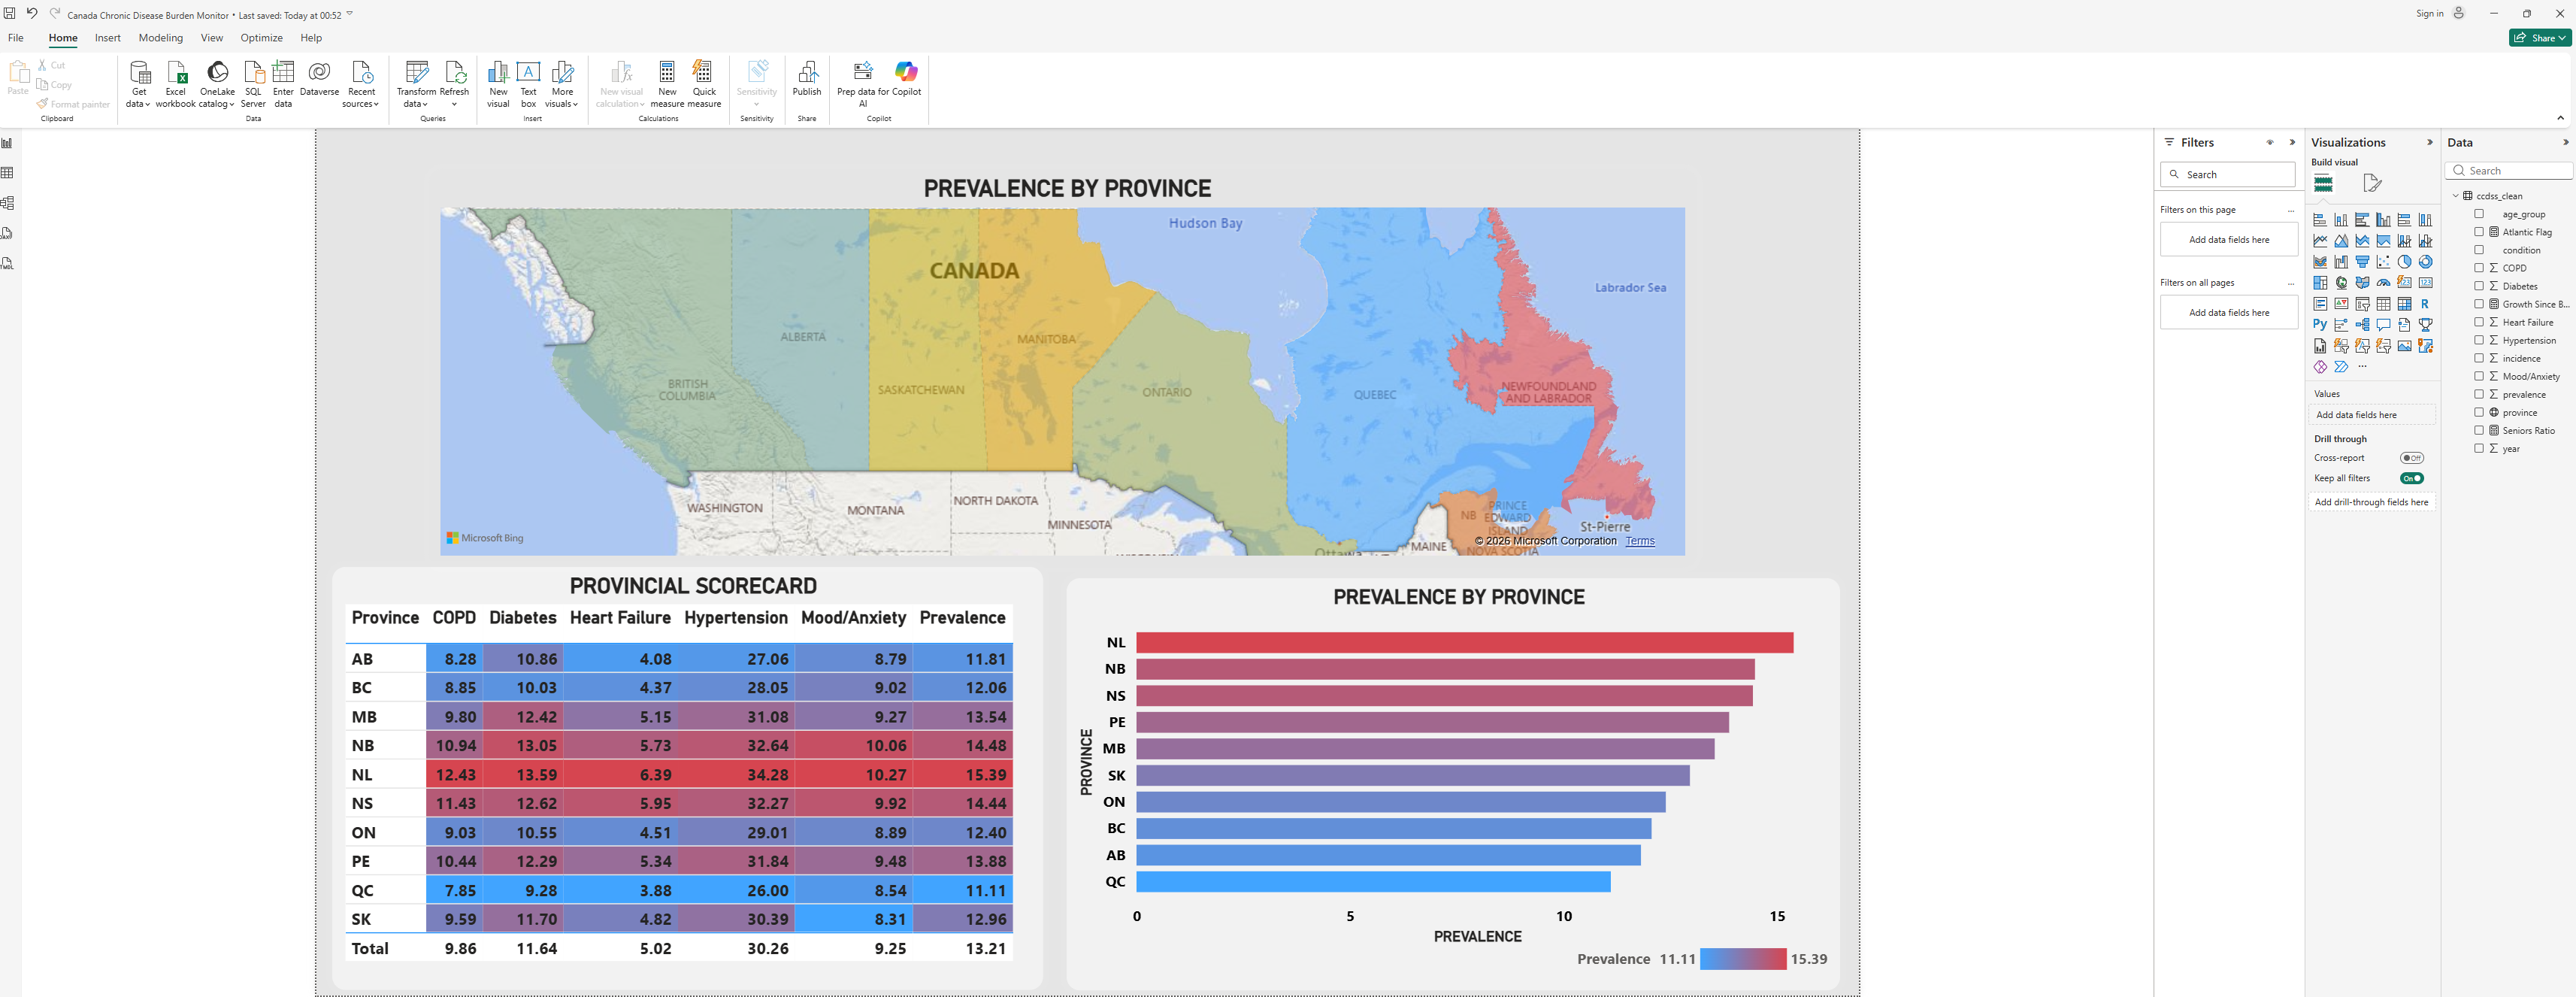

Layout of this report page (visuals, bound fields, positions):
{"tool":"powerbi","page":{"name":"PROVINCIAL ANALYSIS","canvas":[1280,720],"ordinal":1},"visuals":[{"type":"filledMap","title":"PREVALENCE BY PROVINCE","fields":{"Category":["ccdss_clean.province"]},"box":[89.4,30.1,1061,338.6],"z":0},{"type":"tableEx","title":"PROVINCIAL SCORECARD","fields":{"Values":["ccdss_clean.province","Avg(ccdss_clean.COPD)","Avg(ccdss_clean.Diabetes)","Avg(ccdss_clean.Heart Failure)","Avg(ccdss_clean.Hypertension)","Avg(ccdss_clean.Mood/Anxiety)","Avg(ccdss_clean.prevalence)"]},"box":[8,359.7,599.8,360.7],"z":1000},{"type":"clusteredBarChart","title":"PREVALENCE BY PROVINCE","fields":{"Category":["ccdss_clean.province"],"Y":["Avg(ccdss_clean.prevalence)"]},"box":[617.9,368.7,652.1,351.6],"z":2000}]}

Visuals, with their boxes on the page's 1280x720 design canvas (x1, y1, x2, y2). These are canvas units, not pixel positions in the 2576x997 screenshot, which may show the page scaled, cropped or inside an application window:
"PREVALENCE BY PROVINCE" filledMap: {"x1": 89, "y1": 30, "x2": 1150, "y2": 369}
"PROVINCIAL SCORECARD" tableEx: {"x1": 8, "y1": 360, "x2": 608, "y2": 720}
"PREVALENCE BY PROVINCE" clusteredBarChart: {"x1": 618, "y1": 369, "x2": 1270, "y2": 720}
